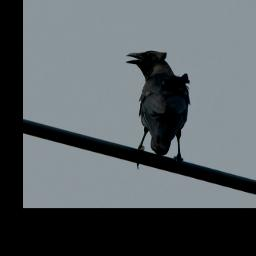Crow: (125, 47, 190, 172)
